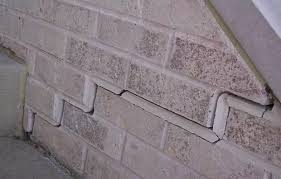stairstep_crack: (26, 80, 277, 140)
